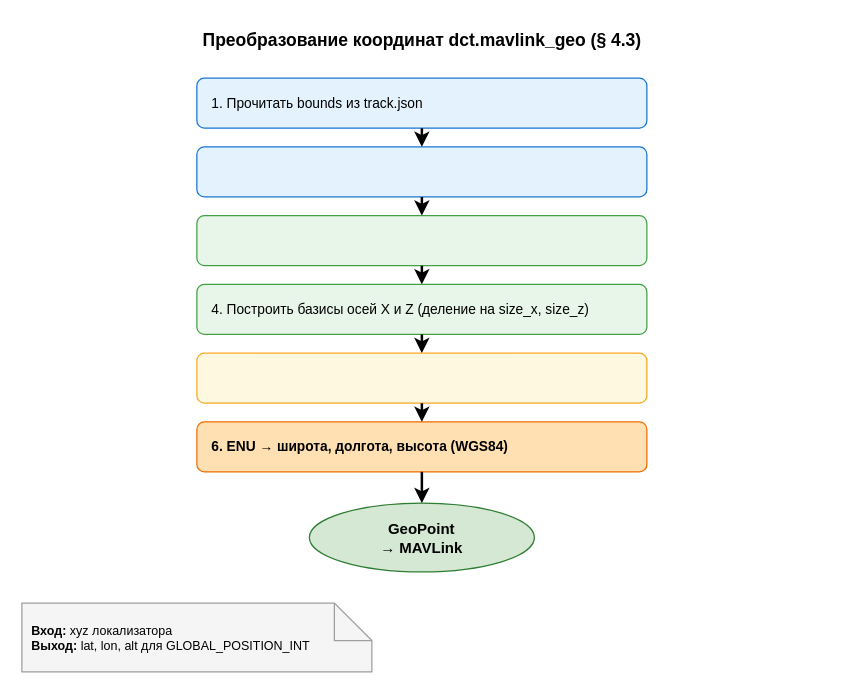
This 844x694 diagram has some shape labels left out. The box of each missing label's shape, as (x1, y1, x2, y2) in pixels:
2. Прочитать anchors origin, x, z (настройки DCT): (196, 146, 647, 197)
3. Перевести anchor-точки в ENU относительно origin: (196, 214, 647, 266)
5. Локальная точка DCT [x, y, z] → ENU (аффинно): (196, 352, 647, 403)
